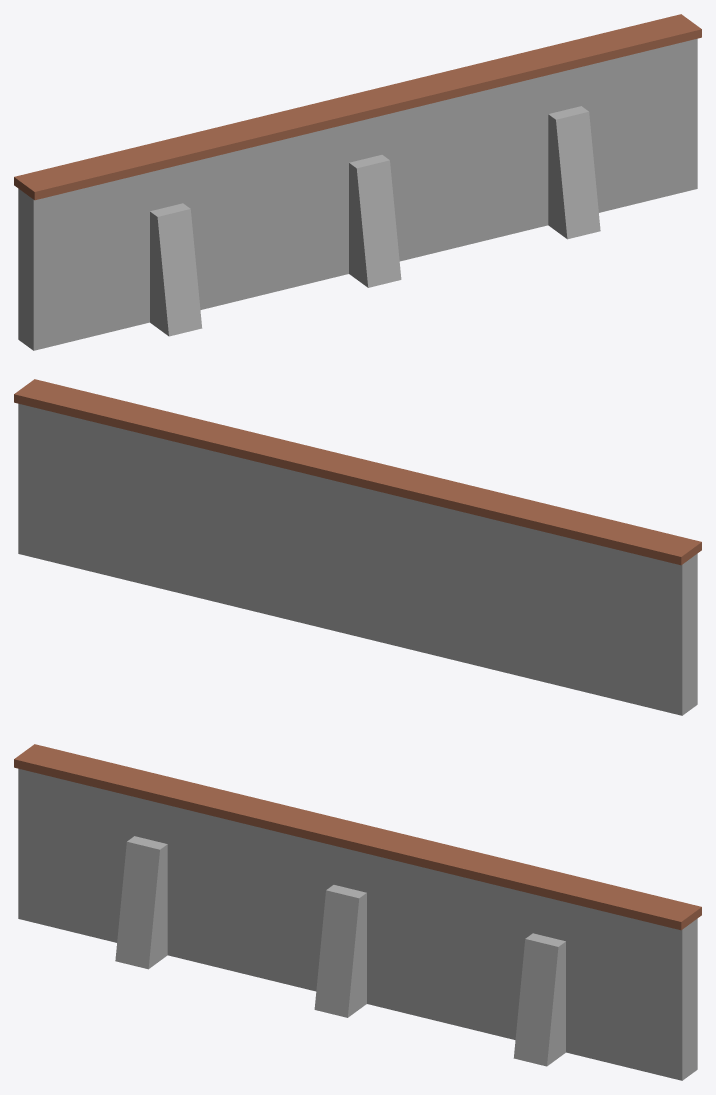
File: SM_Tapia_v4_Contrafuertes_LOD1.fbx
3 renders of one model, top to bottom at view 1: azimuth 30°, elevation 25°; view 2: azimuth 150°, elevation 25°; view 3: azimuth 330°, elevation 25°, orthographic.
Parts seen in each view (by area): view 1: SM_bloques.viveres_nules_v9_LOD1; view 2: SM_bloques.viveres_nules_v9_LOD1; view 3: SM_bloques.viveres_nules_v9_LOD1.
Part boxes in pixels (x1,y1,x2,y2): SM_bloques.viveres_nules_v9_LOD1: (14,14,701,350); SM_bloques.viveres_nules_v9_LOD1: (14,379,701,715); SM_bloques.viveres_nules_v9_LOD1: (14,744,701,1080).
Bounding box in the file's own units: 10.05 × 2.32 × 0.97.
